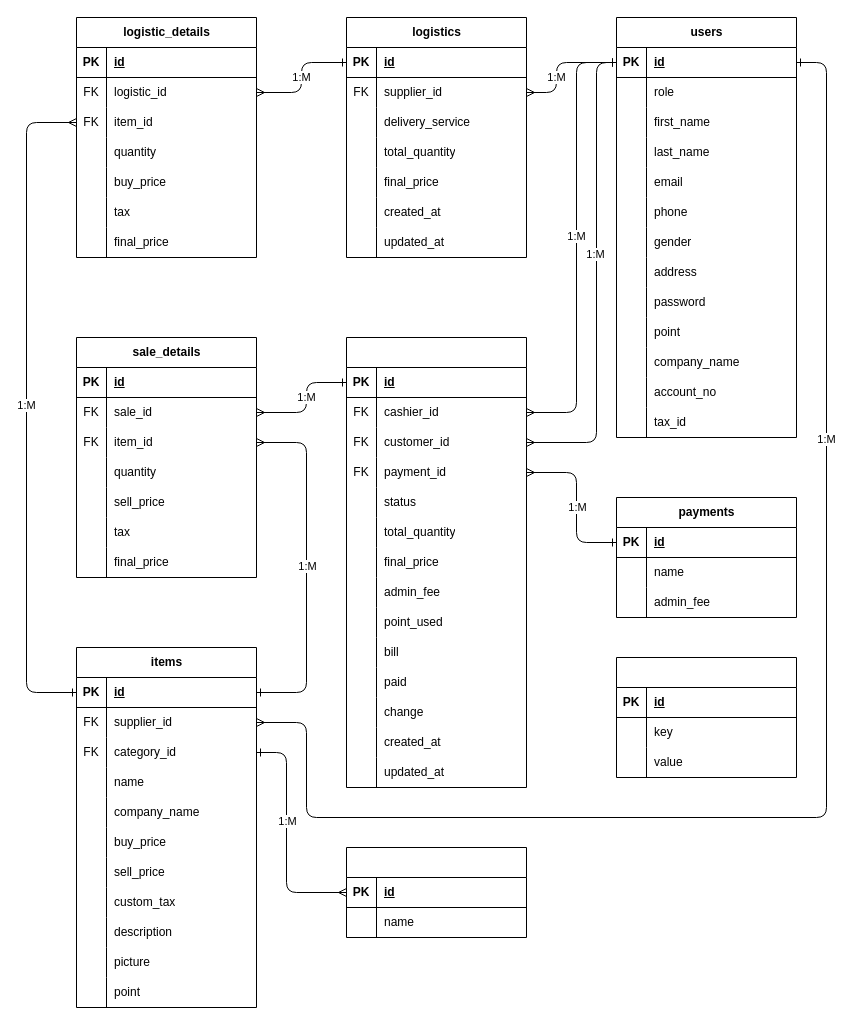
The diagram is 853 pixels wide and 1025 high, and some of its shapes have lost their labels. The shapes that lost their labels are listed below. From the top down, each one's box as (x1, y1, x2, y2) in pixels, then its label:
(346, 336, 526, 788): sales
(616, 656, 796, 778): settings
(346, 846, 526, 938): categories
